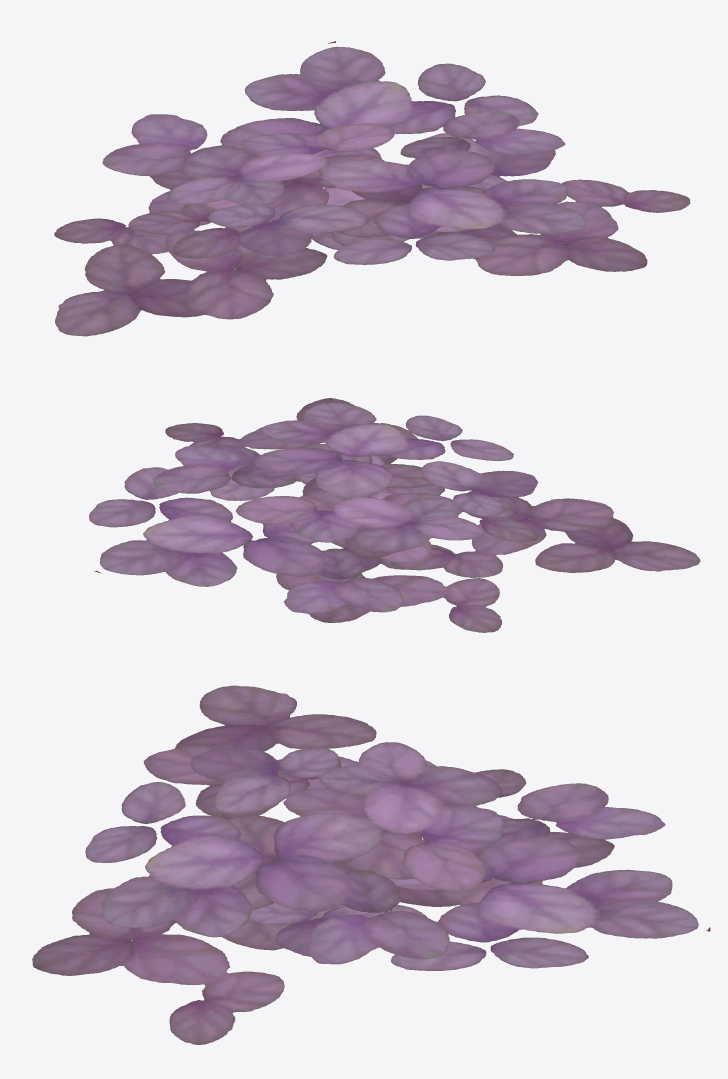
The model's file is SM_Com_Gra_03BS.fbx.
3 renders of one model, top to bottom at view 1: azimuth 30°, elevation 25°; view 2: azimuth 150°, elevation 25°; view 3: azimuth 270°, elevation 25°, orthographic. The views are drawn at different scales.
Visible parts, largest first — view 1: SM_Com_Gra_03BS.mo; view 2: SM_Com_Gra_03BS.mo; view 3: SM_Com_Gra_03BS.mo.
Part boxes in pixels (<box>): SM_Com_Gra_03BS.mo: <box>54,41,690,336</box>; SM_Com_Gra_03BS.mo: <box>89,398,700,632</box>; SM_Com_Gra_03BS.mo: <box>32,685,710,1044</box>.
Size of the model in its own units: 0.8995 by 0.0818 by 0.6973.
